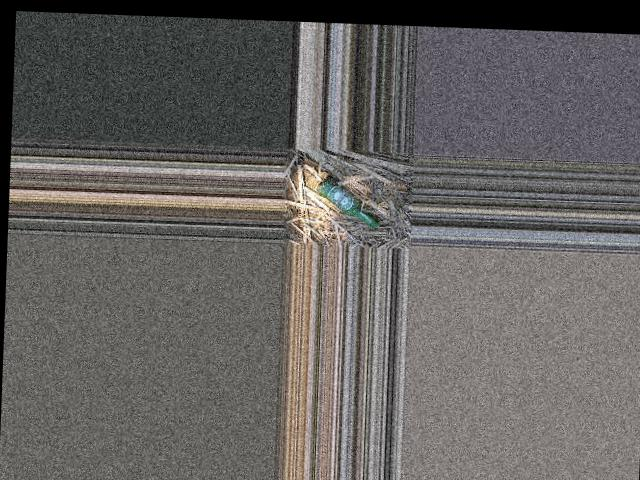beer: (316, 174, 381, 227)
